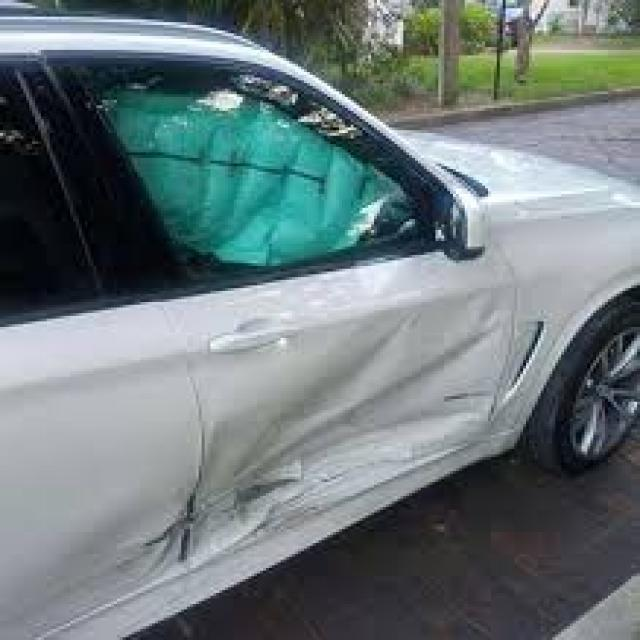damaged-door: (50, 29, 522, 544)
